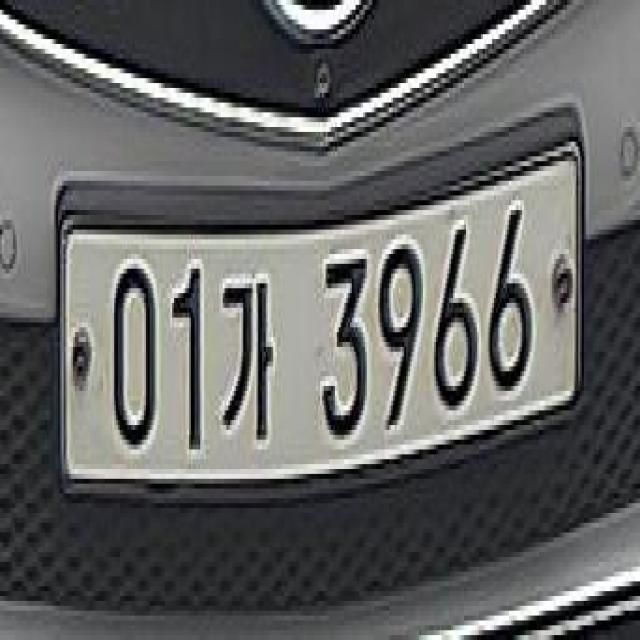illegal_plate: (56, 156, 589, 520)
